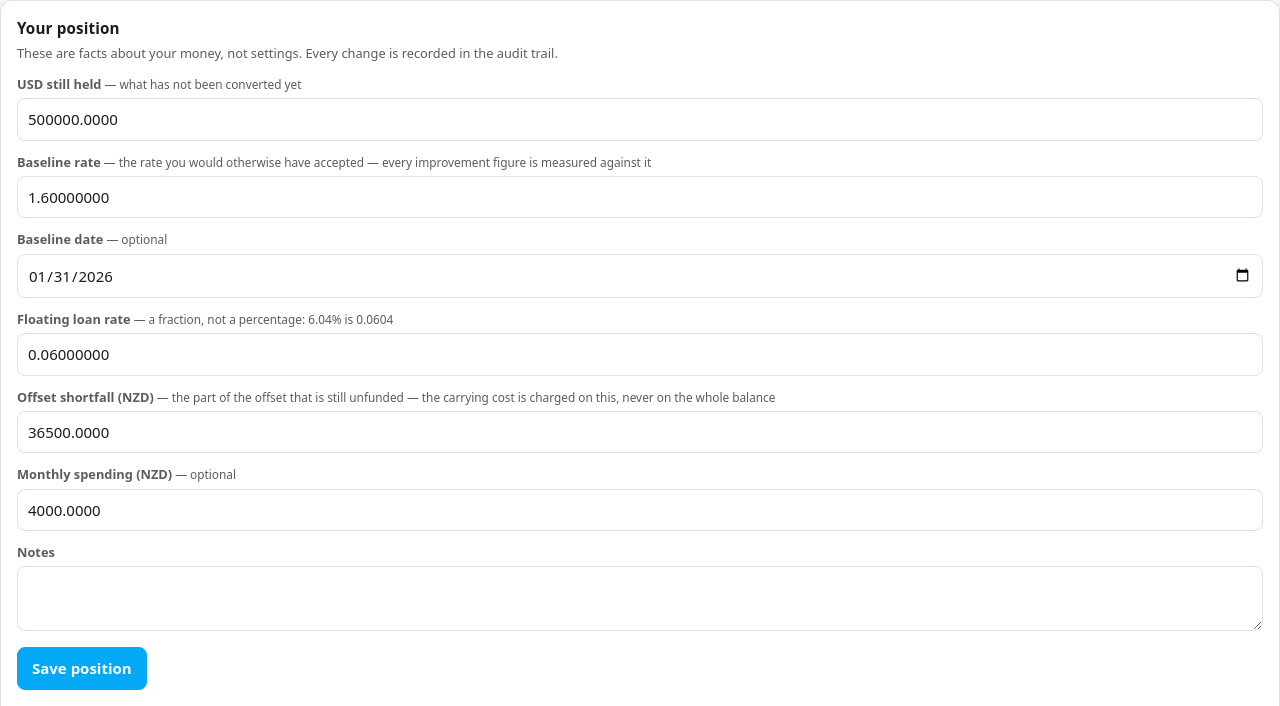
Test case: PositionPage › refuses a loan rate typed as a percentage
Replace the text in the field labelled "Floating loan rate" with "6.04" at x=640, y=354, box [17,333,1263,376]
(page scrolled)
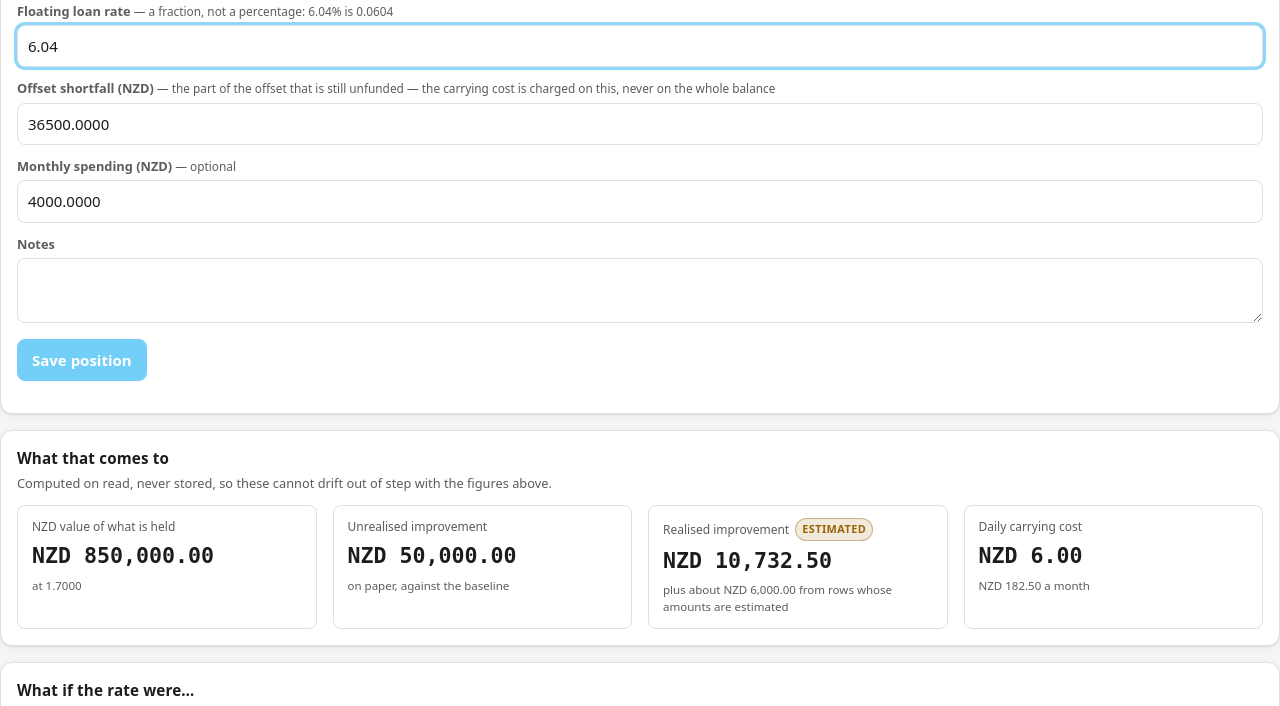
Expected: the button "Save position" is disabled, [17,339,147,381]
